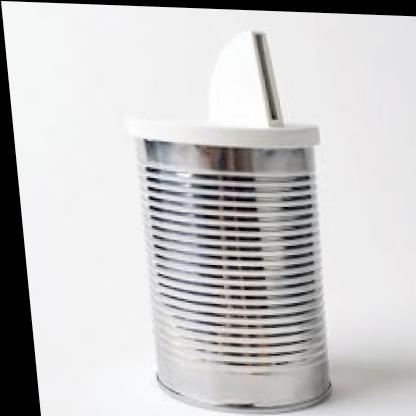trash: (136, 31, 330, 410)
